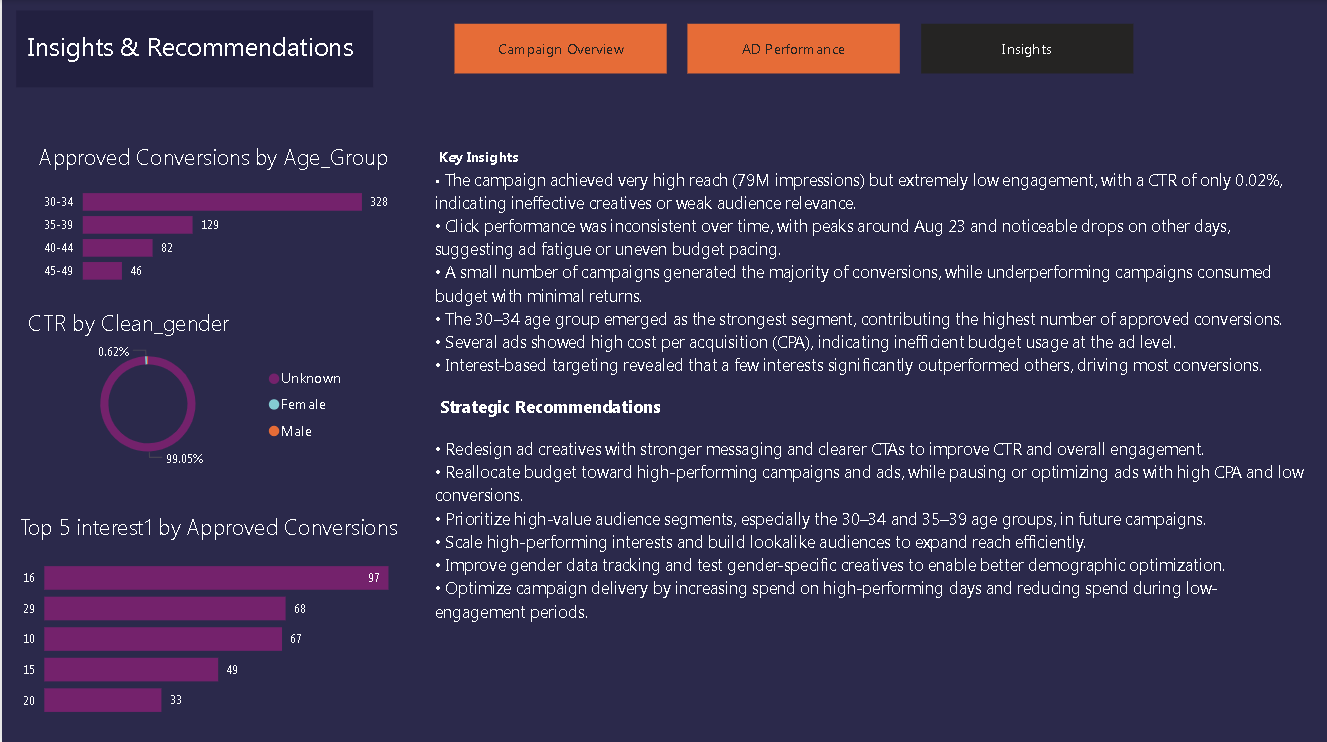

The page's visual inventory and layout, read from the dashboard file:
{"tool":"powerbi","page":{"name":"Insights","canvas":[1280,720],"ordinal":2},"visuals":[{"type":"clusteredBarChart","fields":{"Category":["Data.Age_Group"],"Y":["All mesaures.Approved Conversions"]},"box":[30.2,135.1,351.1,149.6],"z":0},{"type":"donutChart","fields":{"Category":["Data.Clean_gender"],"Y":["All mesaures.CTR"]},"box":[20.6,295,317,159.2],"z":1000},{"type":"clusteredBarChart","title":"Top 5 interest1 by Approved Conversions","fields":{"Y":["All mesaures.Approved Conversions"],"Category":["Data.interest1"]},"box":[12.3,492.6,385.6,212.7],"z":3000},{"type":"shape","box":[12.3,8.2,348.5,78.2],"z":4000},{"type":"textbox","box":[412.6,137.5,849.3,295.6],"z":5000},{"type":"textbox","box":[412.6,375.2,849.3,272.7],"z":6000},{"type":"textbox","box":[20.5,22.9,340.2,78.4],"z":6001},{"type":"pageNavigator","box":[436.7,22.9,656.3,48.3],"z":6002}]}

Visuals, with their boxes in screenshot pixels (x1, y1, x2, y2), scaled from the page's 1280x720 canvas onto the 1327x742 screenshot:
clusteredBarChart - Data.Age_Group x All mesaures.Approved Conversions: crop(31, 139, 395, 293)
donutChart - Data.Clean_gender x All mesaures.CTR: crop(21, 304, 350, 468)
"Top 5 interest1 by Approved Conversions" clusteredBarChart: crop(13, 508, 413, 727)
shape: crop(13, 8, 374, 89)
textbox: crop(428, 142, 1308, 446)
textbox: crop(428, 387, 1308, 668)
textbox: crop(21, 24, 374, 104)
pageNavigator: crop(453, 24, 1133, 73)
